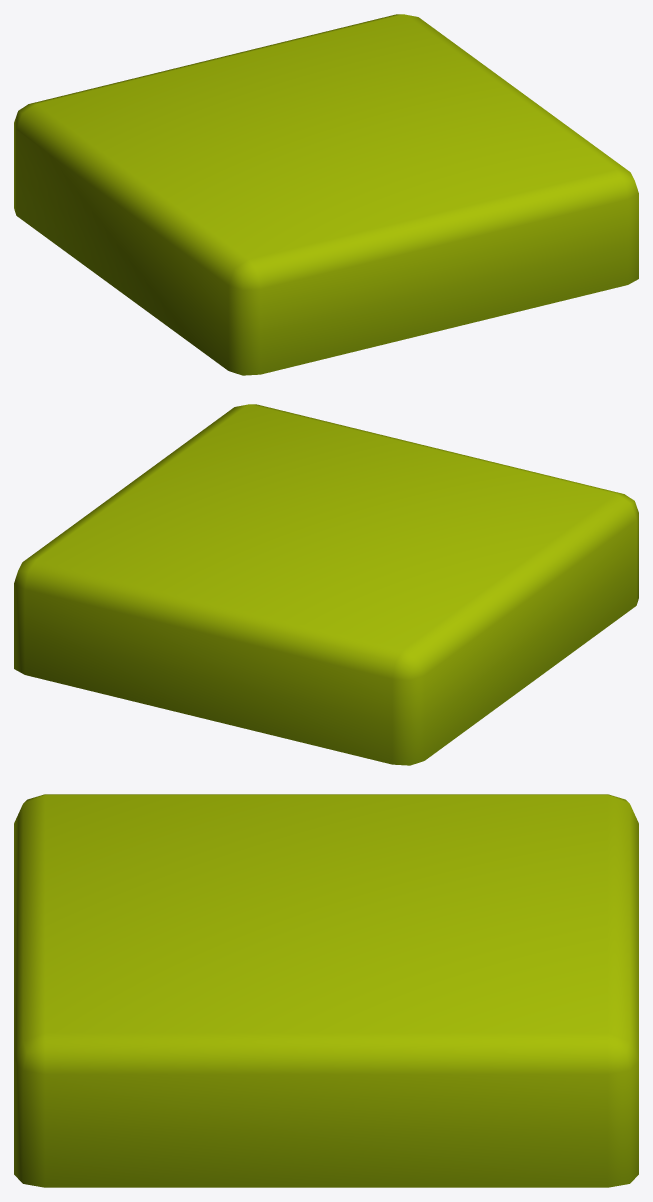
Rendered from 3D_Tile_Top_01.fbx.
3 views of the same model, one above another, from view 1: azimuth 30°, elevation 25°; view 2: azimuth 150°, elevation 25°; view 3: azimuth 270°, elevation 25° (orthographic). The views are drawn at different scales.
Parts seen in each view (by area): view 1: 3D_Tile_Top_01; view 2: 3D_Tile_Top_01; view 3: 3D_Tile_Top_01.
Part boxes in pixels (bbox=[...]): 3D_Tile_Top_01: bbox=[14, 14, 638, 375]; 3D_Tile_Top_01: bbox=[14, 404, 638, 765]; 3D_Tile_Top_01: bbox=[14, 794, 638, 1187].
Size of the model in its own units: 200 by 50 by 200.
